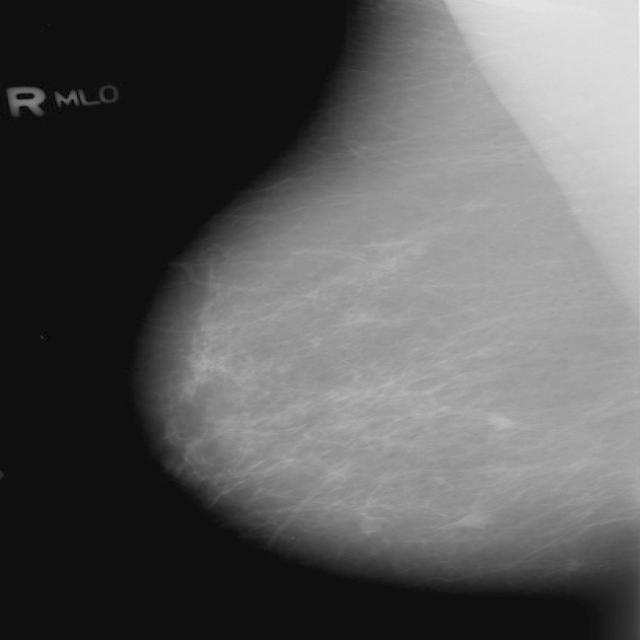tumour: (482, 410, 512, 431), (449, 514, 491, 528)
